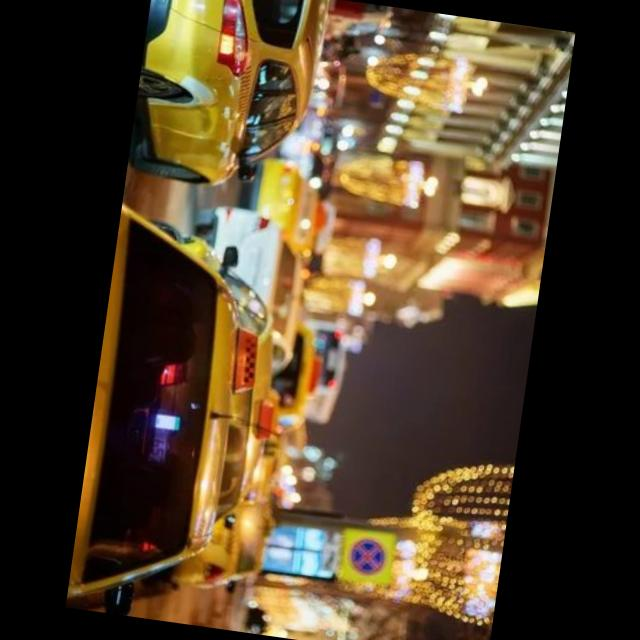taxi: (66, 203, 308, 635), (126, 1, 333, 201)
